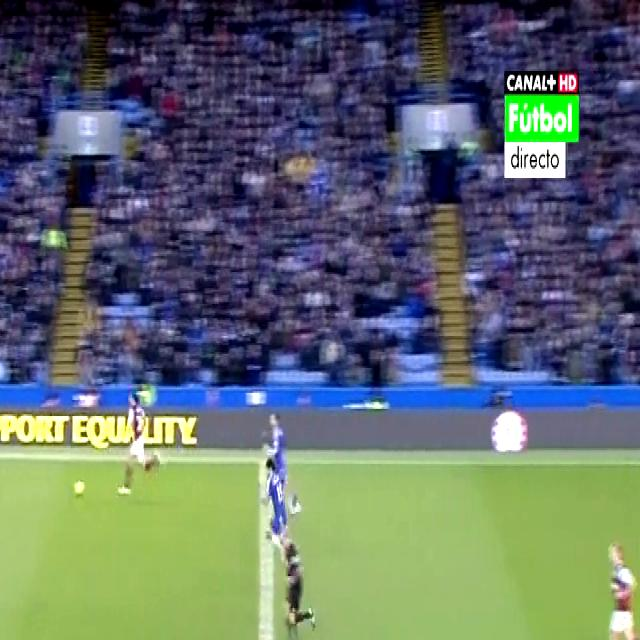ball: (72, 468, 88, 502)
referee: (276, 526, 317, 640)
soccer-player: (112, 378, 164, 513), (595, 521, 640, 640), (255, 452, 296, 574), (258, 400, 294, 523)
